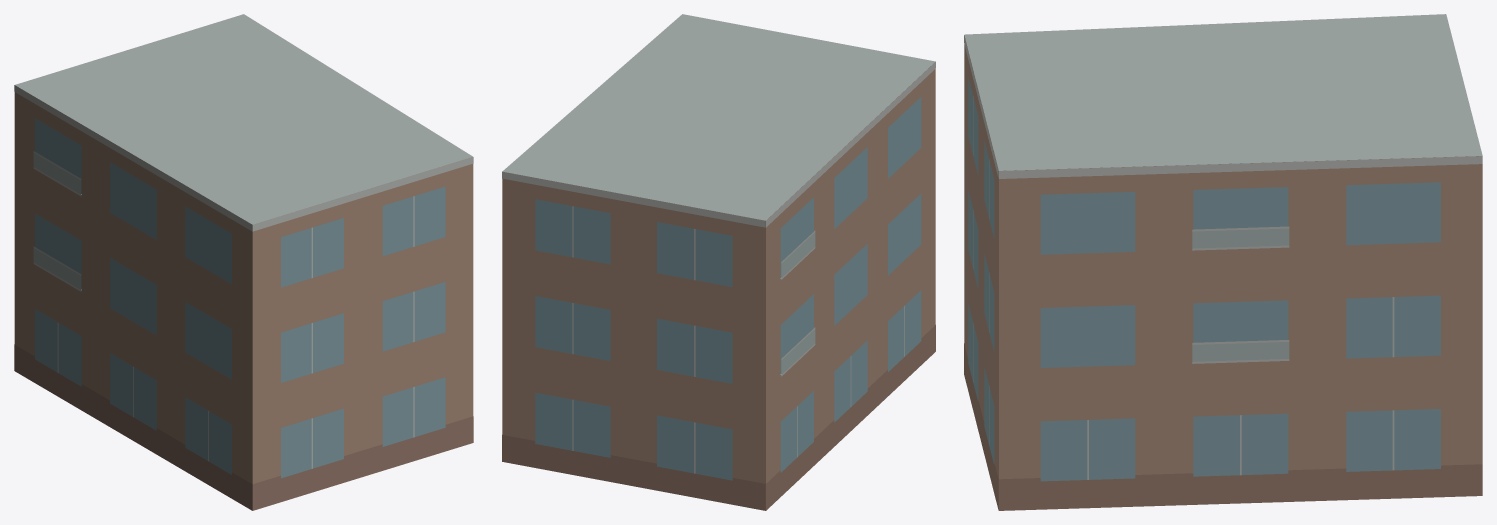
Rendered from survey-upis-33039493.glb.
The picture shows the model from 3 angles, left to right: view 1: azimuth 30°, elevation 25°; view 2: azimuth 150°, elevation 25°; view 3: azimuth 270°, elevation 25°; orthographic projection. The views are drawn at different scales.
Visible parts, largest first — view 1: survey-upis-33039493.tmp; view 2: survey-upis-33039493.tmp; view 3: survey-upis-33039493.tmp.
Part boxes in pixels (x1,y1,x2,y2): survey-upis-33039493.tmp: (14, 14, 473, 510); survey-upis-33039493.tmp: (502, 14, 935, 510); survey-upis-33039493.tmp: (964, 14, 1482, 510).
Size of the model in its own units: 10.11 by 10.2 by 14.11.
